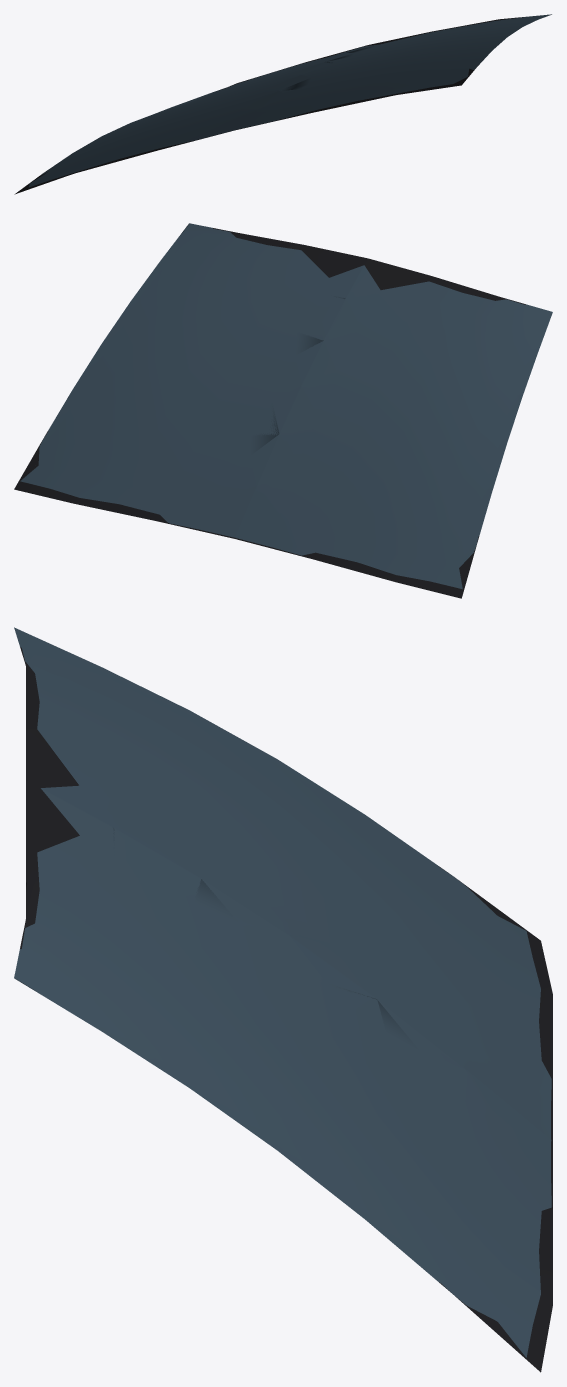
The model's file is GEO_Windshield.glb.
The picture shows the model from 3 angles, top to bottom: view 1: azimuth 30°, elevation 25°; view 2: azimuth 150°, elevation 25°; view 3: azimuth 270°, elevation 25°; orthographic projection. The views are drawn at different scales.
Parts seen in each view (by area): view 1: GEO_Windshield; view 2: GEO_Windshield; view 3: GEO_Windshield.
Boxes of the visible parts, x1=… form: GEO_Windshield: x1=14, y1=14, x2=551, y2=194; GEO_Windshield: x1=14, y1=223, x2=552, y2=598; GEO_Windshield: x1=14, y1=627, x2=552, y2=1372.
Size of the model in its own units: 1.28 by 0.5202 by 0.675.
